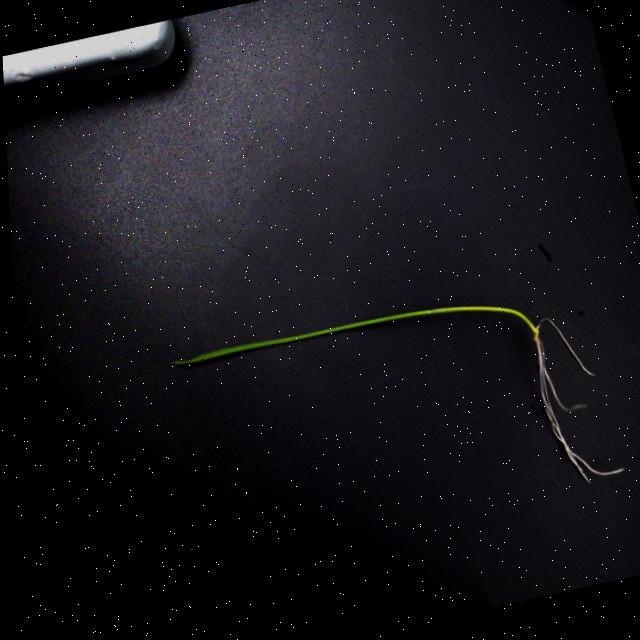leaf: (174, 305, 428, 370)
root: (534, 314, 630, 487)
steb: (426, 297, 535, 326)
